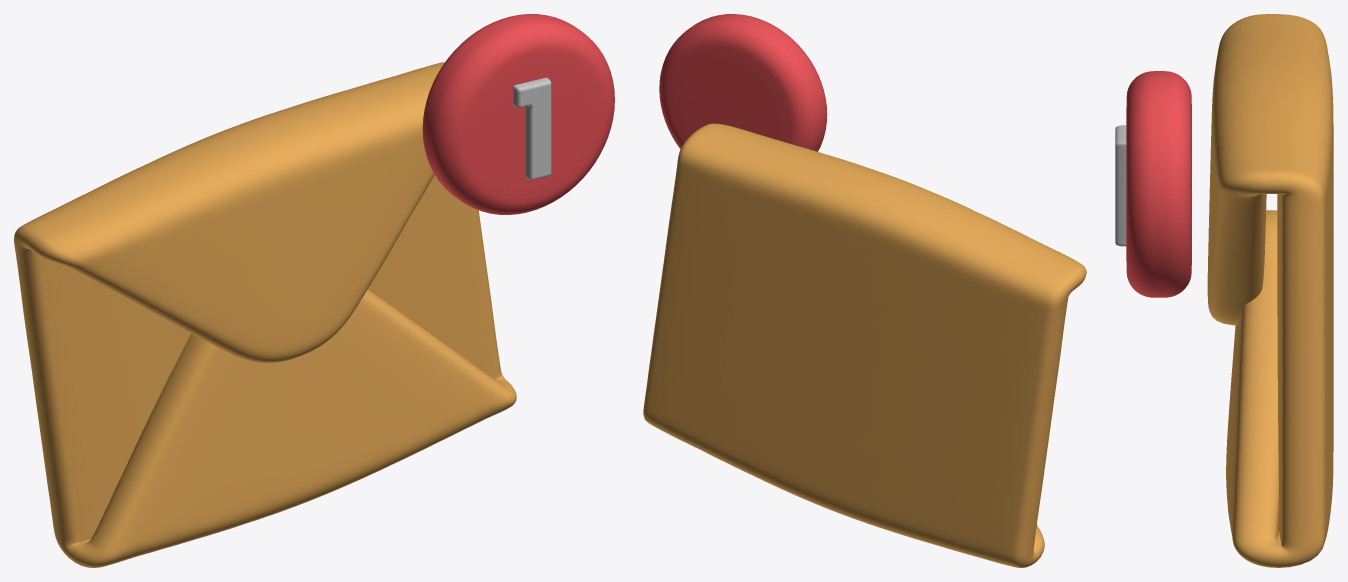
Rendered from new-inbox-animated-3d-icon-291145170384.glb.
3 renders of one model, left to right at view 1: azimuth 30°, elevation 25°; view 2: azimuth 150°, elevation 25°; view 3: azimuth 270°, elevation 25°, orthographic. The views are drawn at different scales.
Visible parts, largest first — view 1: Message, Base.001, Value; view 2: Message, Base.001; view 3: Message, Base.001, Value.
Boxes of the visible parts, x1,y1,x2,y2 form: Message: [14, 62, 516, 567]; Base.001: [422, 14, 614, 214]; Value: [513, 77, 551, 179]; Message: [643, 123, 1086, 567]; Base.001: [659, 14, 827, 151]; Message: [1207, 14, 1333, 567]; Base.001: [1126, 71, 1191, 297]; Value: [1115, 125, 1126, 246].
Size of the model in its own units: 2.44 by 2.17 by 0.8057.
